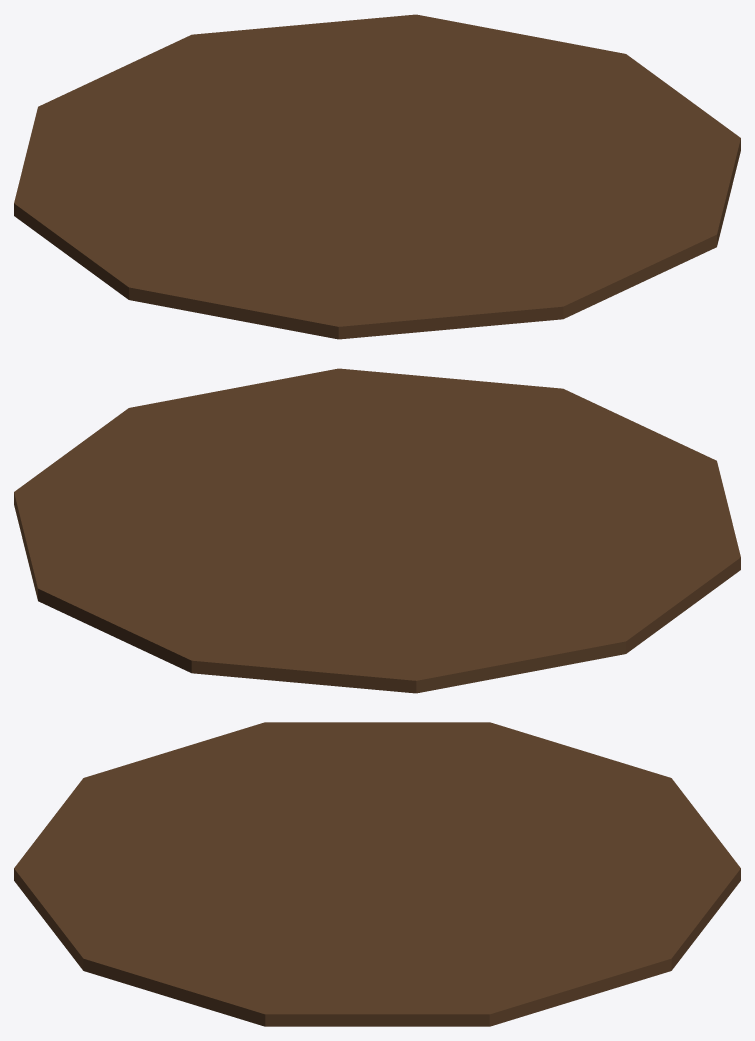
The model's file is mud_puddle.glb.
The picture shows the model from 3 angles, top to bottom: view 1: azimuth 30°, elevation 25°; view 2: azimuth 150°, elevation 25°; view 3: azimuth 270°, elevation 25°; orthographic projection. The views are drawn at different scales.
Visible parts, largest first — view 1: mud_puddle; view 2: mud_puddle; view 3: mud_puddle.
Part boxes in pixels (box(x1,y1,x2,y2)): mud_puddle: box(14, 14, 740, 339); mud_puddle: box(14, 368, 740, 693); mud_puddle: box(14, 722, 740, 1026).
Size of the model in its own units: 1.52 by 0.03 by 1.6.
